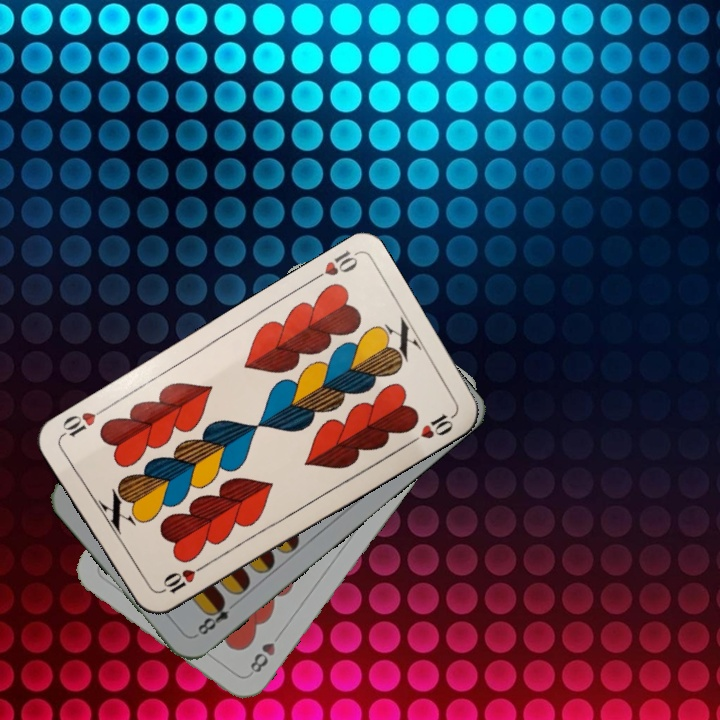E8: (191, 594, 241, 639)
H10: (305, 246, 361, 286), (154, 560, 208, 597)
H8: (246, 638, 278, 678)
